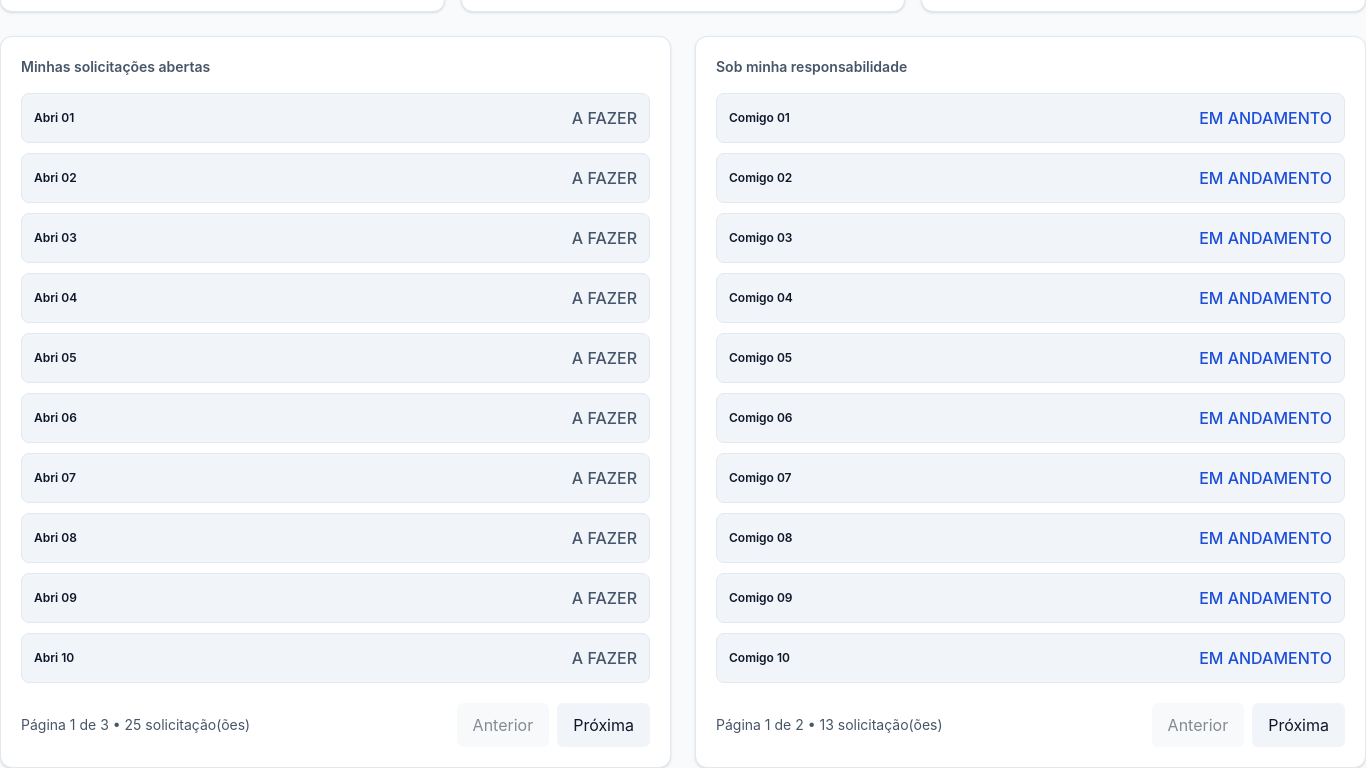
Test: PessoalTab — listas em aberto, paginadas › deve mostrar a segunda página das abertas pelo operador quando "Próxima" é acionado
The width and height of the screenshot is (1366, 768).
(page scrolled)
Expected: the heading "Minhas solicitações abertas" is shown, [21,58,210,75]
Click the 1st button "Próxima" at [604, 725], box [557,703,650,747]
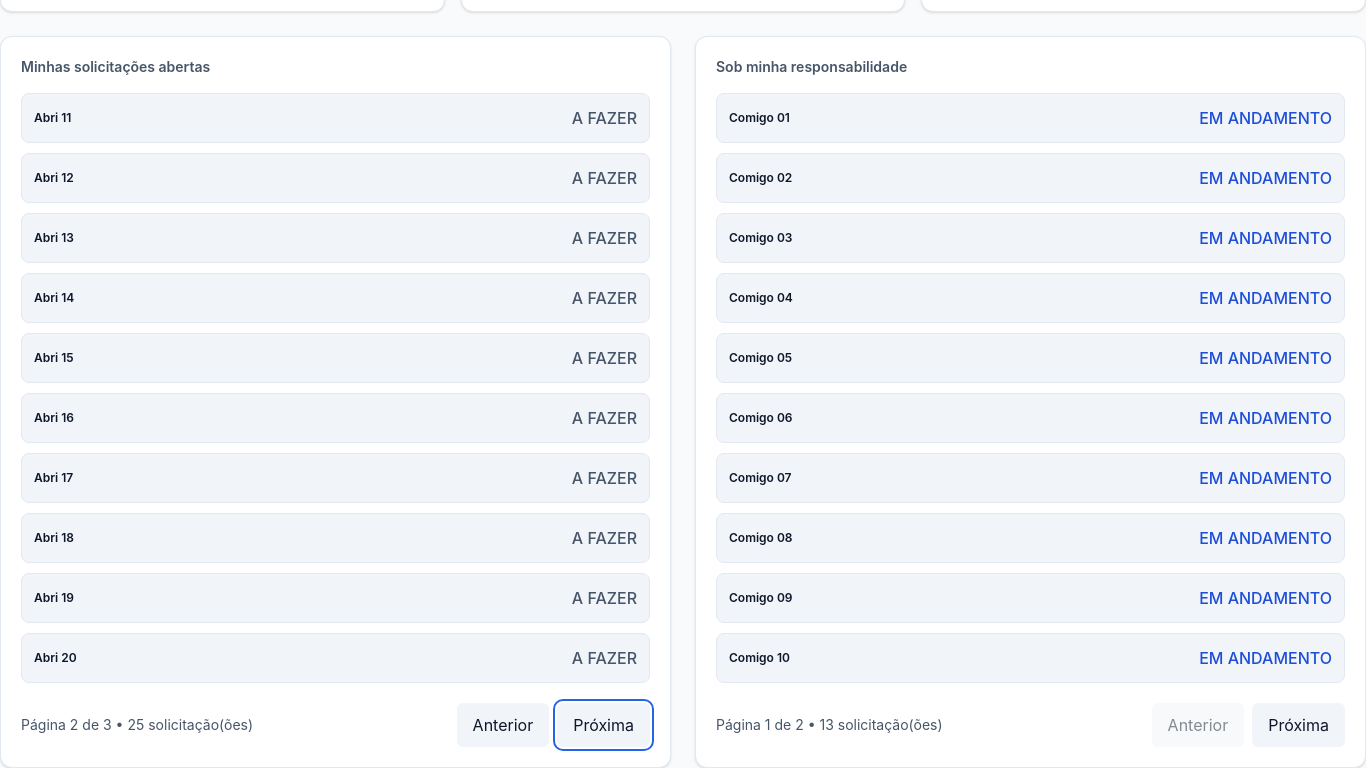
Expected: the link "Abri 11 A fazer" is shown, [21,93,650,143]
